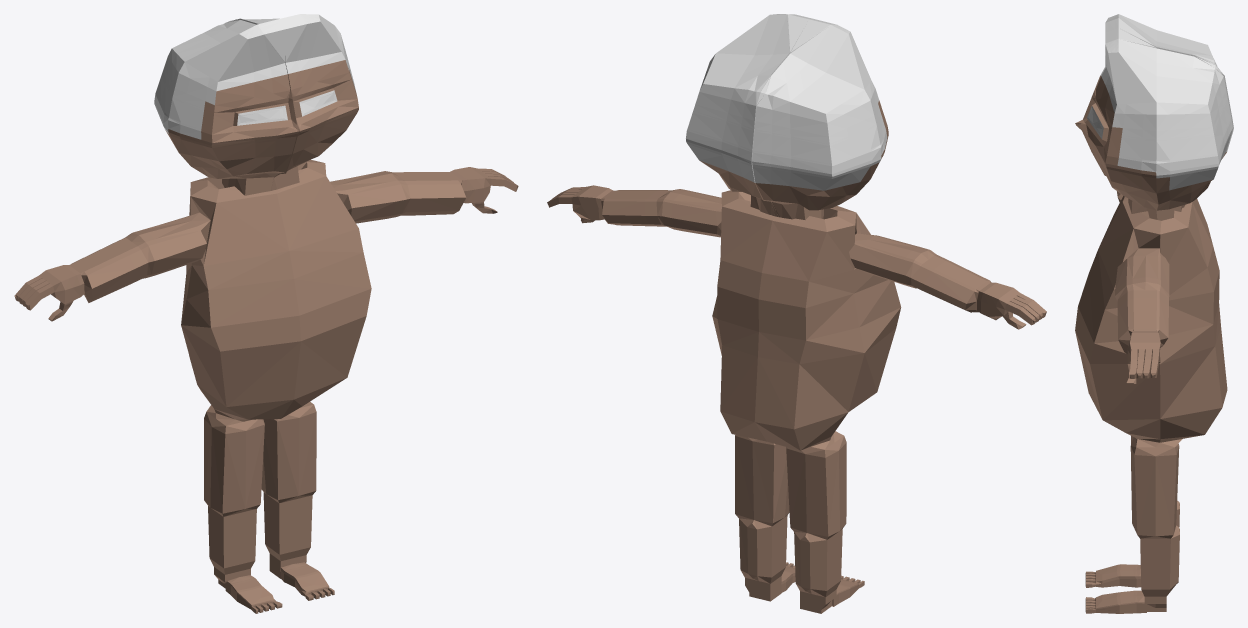
Rendered from human-2.dae.
The picture shows the model from 3 angles, left to right: view 1: azimuth 30°, elevation 25°; view 2: azimuth 150°, elevation 25°; view 3: azimuth 270°, elevation 25°; orthographic projection.
Visible parts, largest first — view 1: Cube.001; view 2: Cube.001; view 3: Cube.001.
Part boxes in pixels (<box>): Cube.001: <box>14,14,518,613</box>; Cube.001: <box>547,14,1046,613</box>; Cube.001: <box>1075,14,1233,613</box>.
Size of the model in its own units: 10.93 by 3.1 by 12.2.
